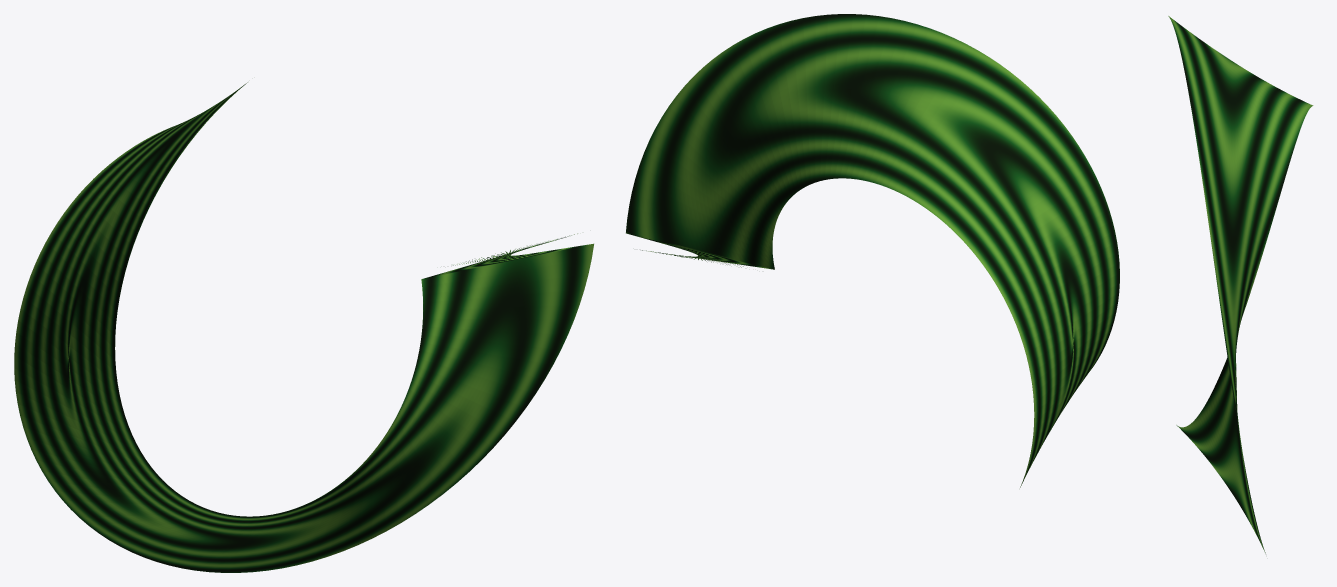
The model's file is mobius-forest.glb.
The picture shows the model from 3 angles, left to right: view 1: azimuth 30°, elevation 25°; view 2: azimuth 150°, elevation 25°; view 3: azimuth 270°, elevation 25°; orthographic projection. The views are drawn at different scales.
Visible parts, largest first — view 1: world; view 2: world; view 3: world.
Boxes of the visible parts, <box> form: world: <box>14,82,593,572</box>; world: <box>626,14,1119,487</box>; world: <box>1168,16,1313,553</box>.
Size of the model in its own units: 2.42 by 2.58 by 0.8.
1 material, 1 textured.
